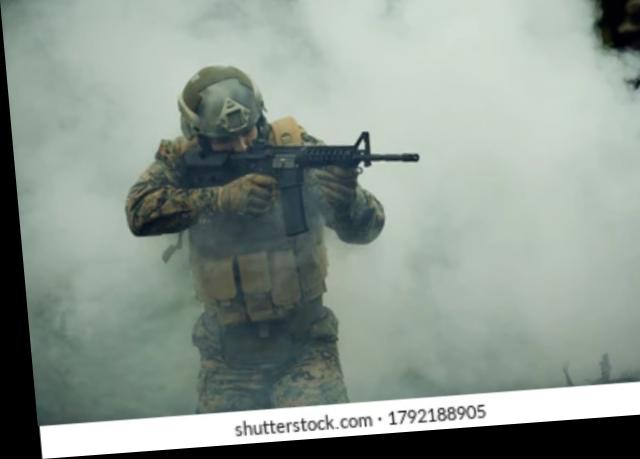other: (111, 62, 392, 407)
